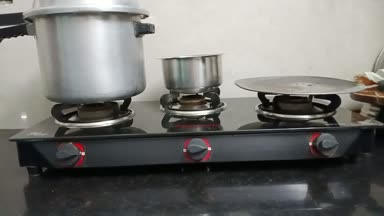flame_gas_off: (256, 92, 351, 160), (46, 100, 138, 169), (162, 88, 229, 164)
